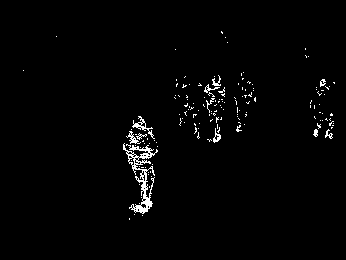person: (123, 115, 158, 216), (206, 73, 226, 145)
